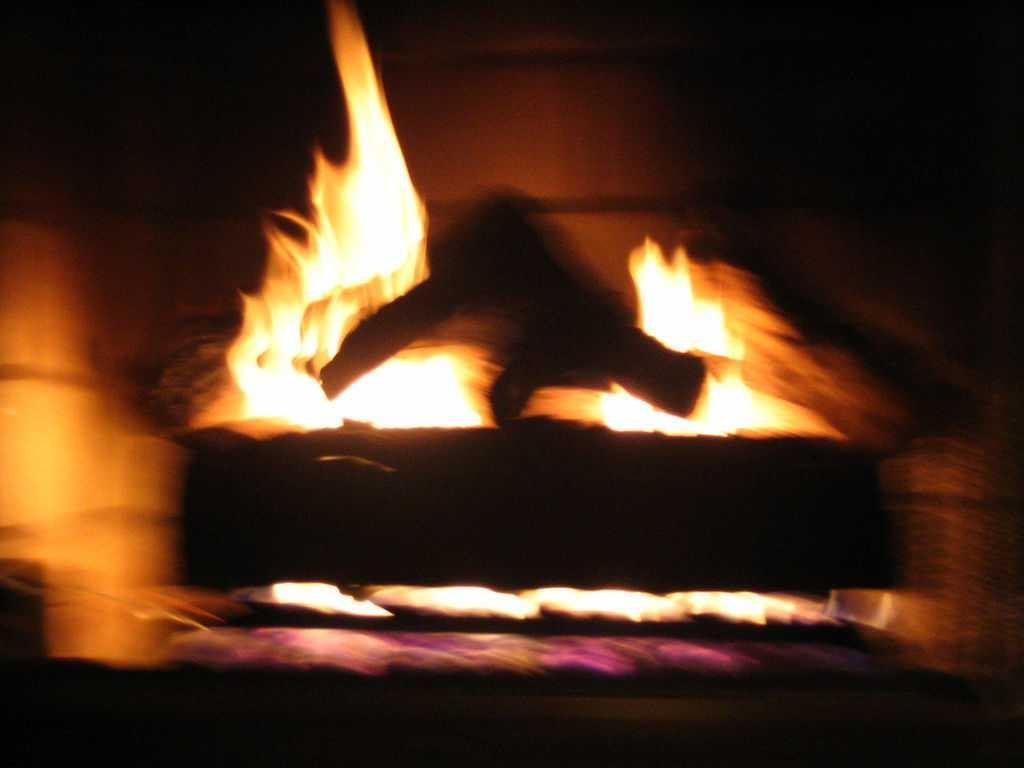fire: (181, 44, 411, 425), (17, 247, 155, 646), (627, 227, 864, 425)
